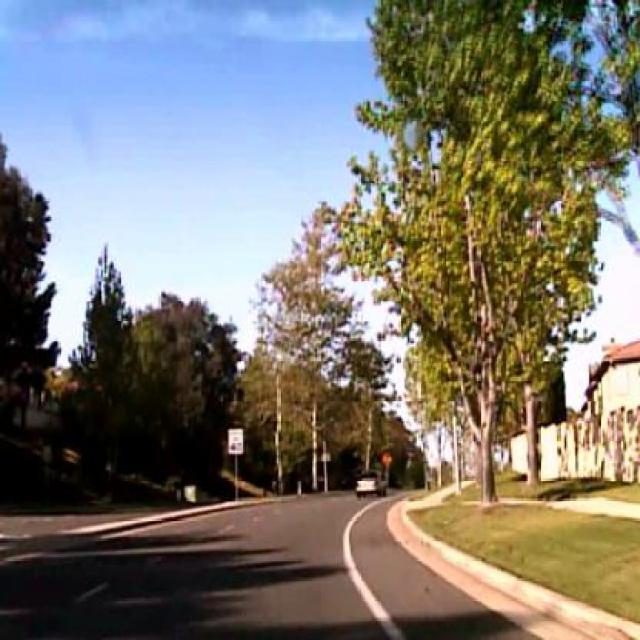speedLimit40: (228, 428, 243, 453)
